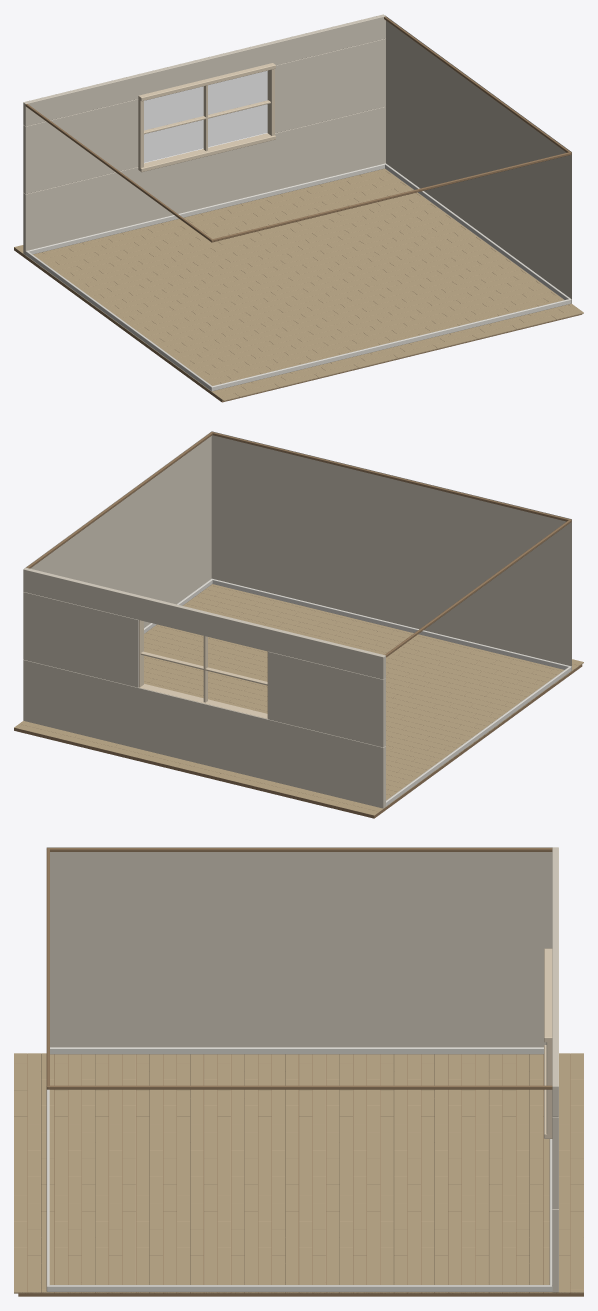
File: studio-shell-v3.glb
The picture shows the model from 3 angles, top to bottom: view 1: azimuth 30°, elevation 25°; view 2: azimuth 150°, elevation 25°; view 3: azimuth 270°, elevation 25°; orthographic projection. The views are drawn at different scales.
Visible parts, largest first — view 1: Interior wall surface, Wall below window, Wall beside window (×2), Continuous wall above window, Courtyard inside window opening, Stone skirting (×3), Wall ceiling reveal (×3), Window sill and lintel (×2), Continuous skirting, Parquet subfloor, Window crossbar, Recessed window jamb; view 2: Interior wall surface (×2), Wall below window, Wall beside window (×2), Continuous wall above window, Stone skirting (×2), Wall ceiling reveal (×3), Parquet subfloor, Window sill and lintel, Window crossbar; view 3: Interior wall surface, Parquet subfloor, Stone skirting (×3), Wall ceiling reveal (×3), Continuous wall above window, Window sill and lintel, Recessed window jamb, Wall beside window, Continuous skirting, Wall below window.
Boxes of the visible parts, left/top/right/bottom form: Interior wall surface: left=385, top=15, right=571, bottom=303; Wall below window: left=23, top=106, right=385, bottom=254; Wall beside window (×2): left=23, top=38, right=385, bottom=194; Continuous wall above window: left=23, top=14, right=385, bottom=126; Courtyard inside window opening: left=144, top=70, right=267, bottom=162; Stone skirting (×3): left=26, top=163, right=571, bottom=391; Wall ceiling reveal (×3): left=25, top=16, right=571, bottom=242; Window sill and lintel (×2): left=138, top=63, right=275, bottom=172; Continuous skirting: left=25, top=163, right=384, bottom=255; Parquet subfloor: left=14, top=247, right=582, bottom=402; Window crossbar: left=144, top=100, right=270, bottom=134; Recessed window jamb: left=267, top=69, right=274, bottom=135; Interior wall surface (×2): left=25, top=431, right=571, bottom=670; Wall below window: left=23, top=659, right=385, bottom=808; Wall beside window (×2): left=23, top=592, right=385, bottom=747; Continuous wall above window: left=23, top=567, right=385, bottom=679; Stone skirting (×2): left=211, top=578, right=571, bottom=805; Wall ceiling reveal (×3): left=26, top=432, right=571, bottom=657; Parquet subfloor: left=14, top=664, right=582, bottom=818; Window sill and lintel: left=139, top=684, right=267, bottom=718; Window crossbar: left=140, top=651, right=267, bottom=685; Interior wall surface: left=46, top=847, right=552, bottom=1047; Parquet subfloor: left=18, top=1054, right=583, bottom=1296; Stone skirting (×3): left=46, top=1047, right=552, bottom=1291; Wall ceiling reveal (×3): left=46, top=848, right=552, bottom=1089; Continuous wall above window: left=552, top=847, right=558, bottom=1116; Window sill and lintel: left=544, top=948, right=552, bottom=1042; Recessed window jamb: left=546, top=1039, right=552, bottom=1136; Wall beside window: left=552, top=1117, right=558, bottom=1208; Continuous skirting: left=549, top=1139, right=552, bottom=1291; Wall below window: left=552, top=1209, right=558, bottom=1292.
Bounding box in the file's own units: 10 × 4.11 × 10.08.
